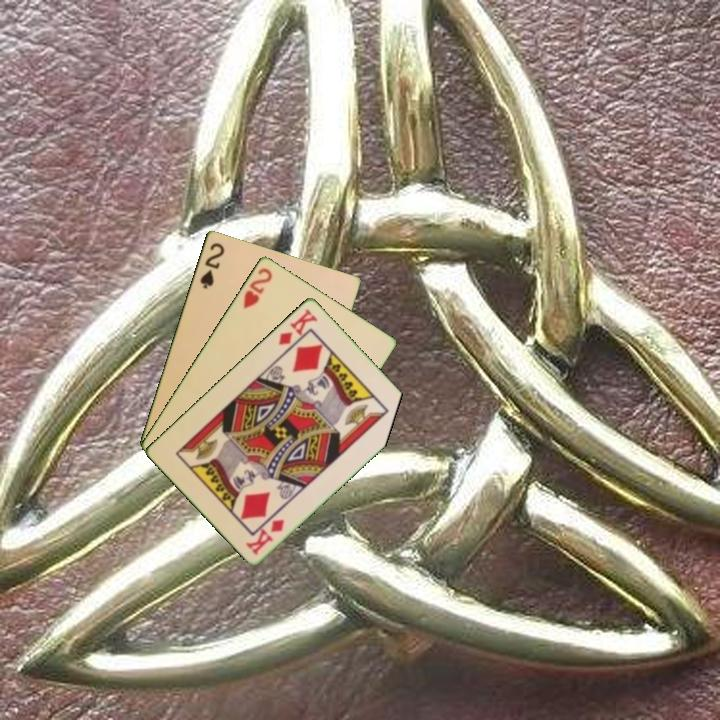2h: (239, 264, 275, 312)
2s: (196, 239, 227, 291)
Kd: (275, 305, 320, 348), (243, 515, 287, 558)
